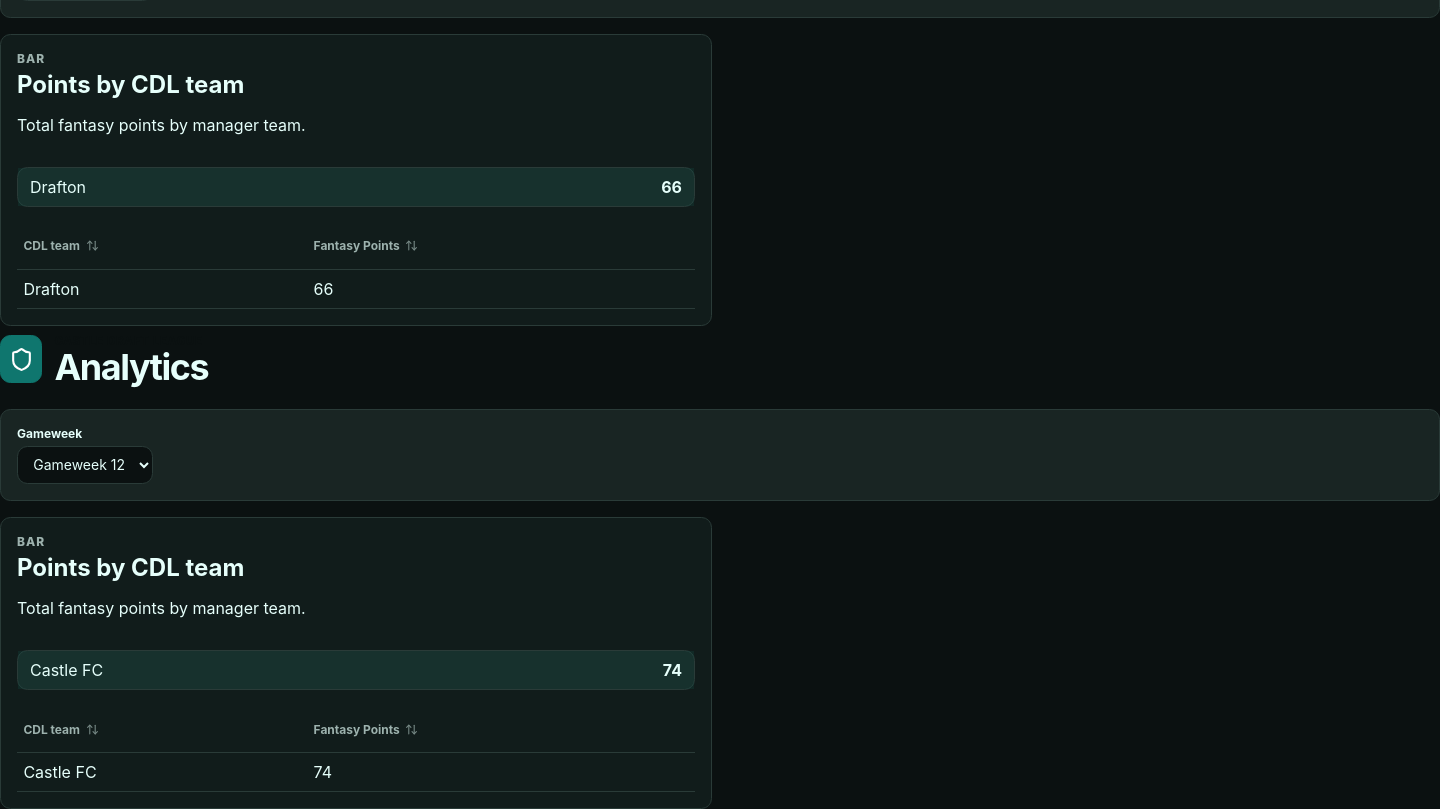
AnalyticsDashboardPage › opens drill-down dialog from chart point
(page scrolled)
Click the button "Castle FC 74" at x=67, y=670, box [17, 650, 695, 690]
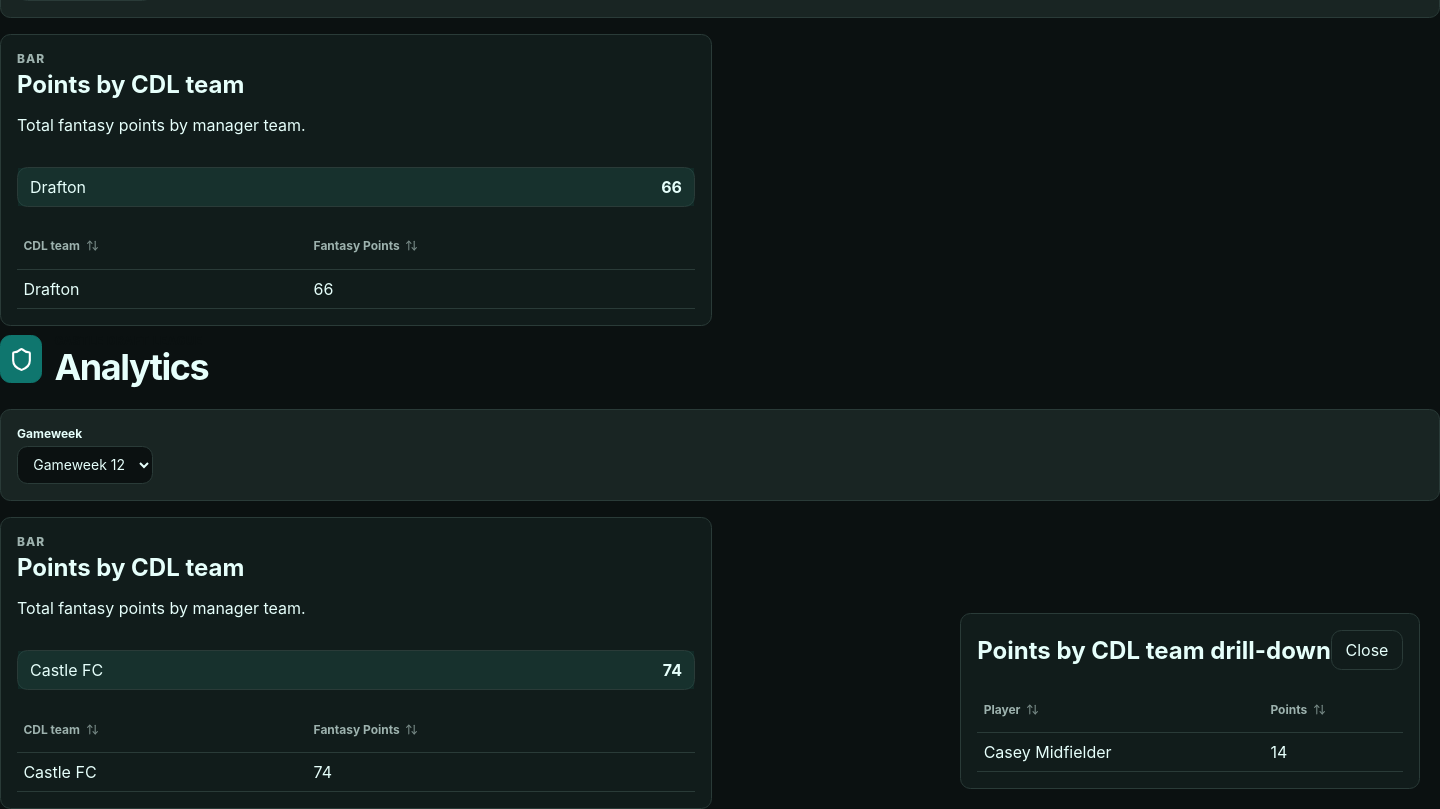
Result: the dialog shows "Casey Midfielder" at [984, 742, 1112, 762]
